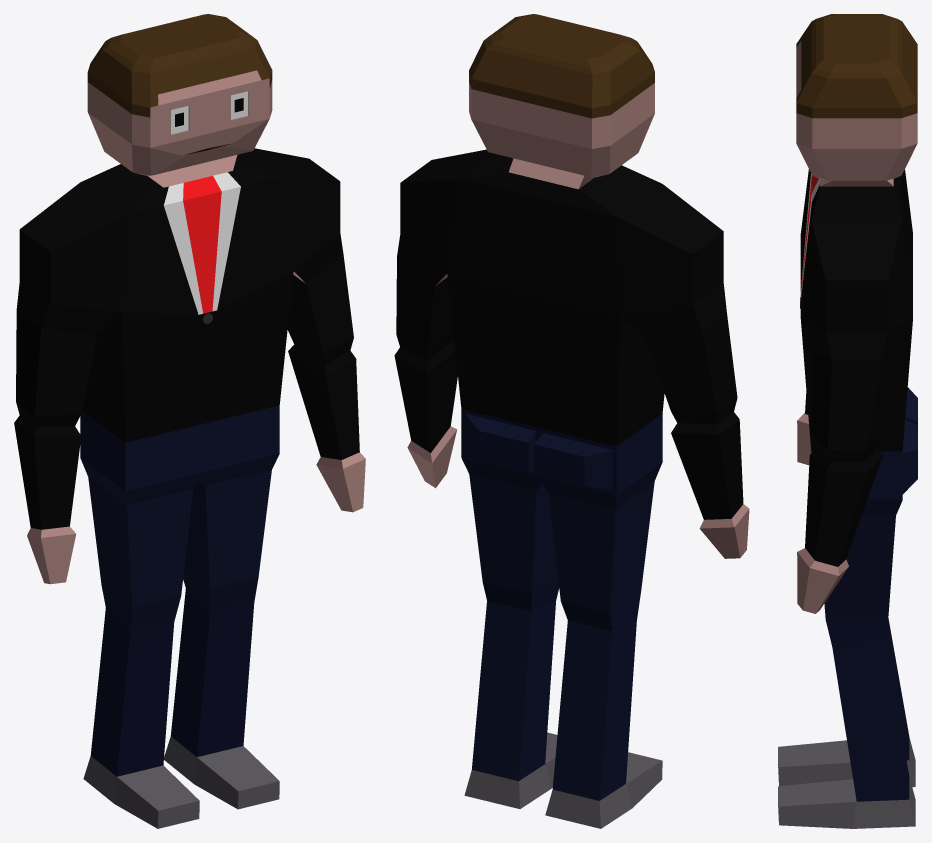
File: Bossman.fbx
The picture shows the model from 3 angles, left to right: view 1: azimuth 30°, elevation 25°; view 2: azimuth 150°, elevation 25°; view 3: azimuth 270°, elevation 25°; orthographic projection.
Parts seen in each view (by area): view 1: Cube; view 2: Cube; view 3: Cube.
Part boxes in pixels (<box>): Cube: <box>14,14,365,828</box>; Cube: <box>394,14,749,828</box>; Cube: <box>778,14,917,828</box>.
Size of the model in its own units: 406 by 895 by 150.
